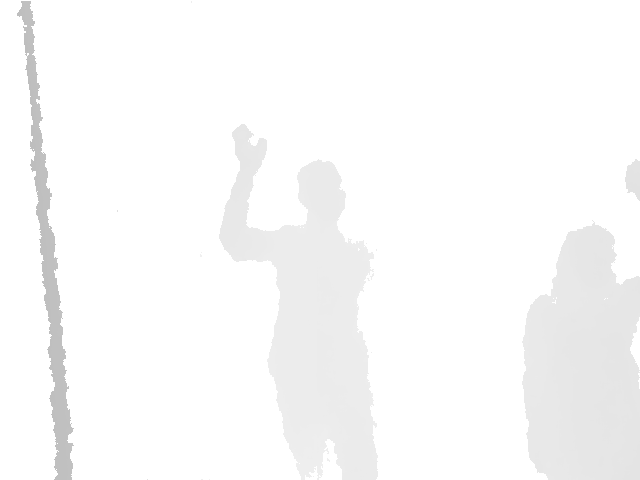hand: (230, 123, 269, 175)
head: (556, 223, 617, 305), (296, 158, 346, 226)
person: (217, 123, 380, 480), (521, 157, 640, 480)
